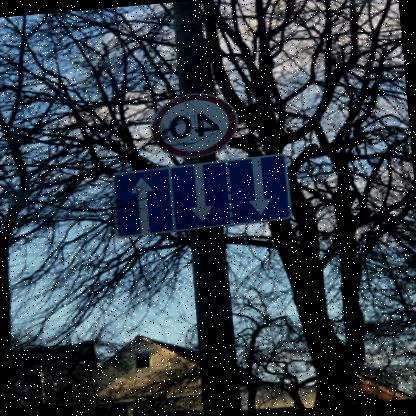speedlimit: (150, 90, 244, 160)
